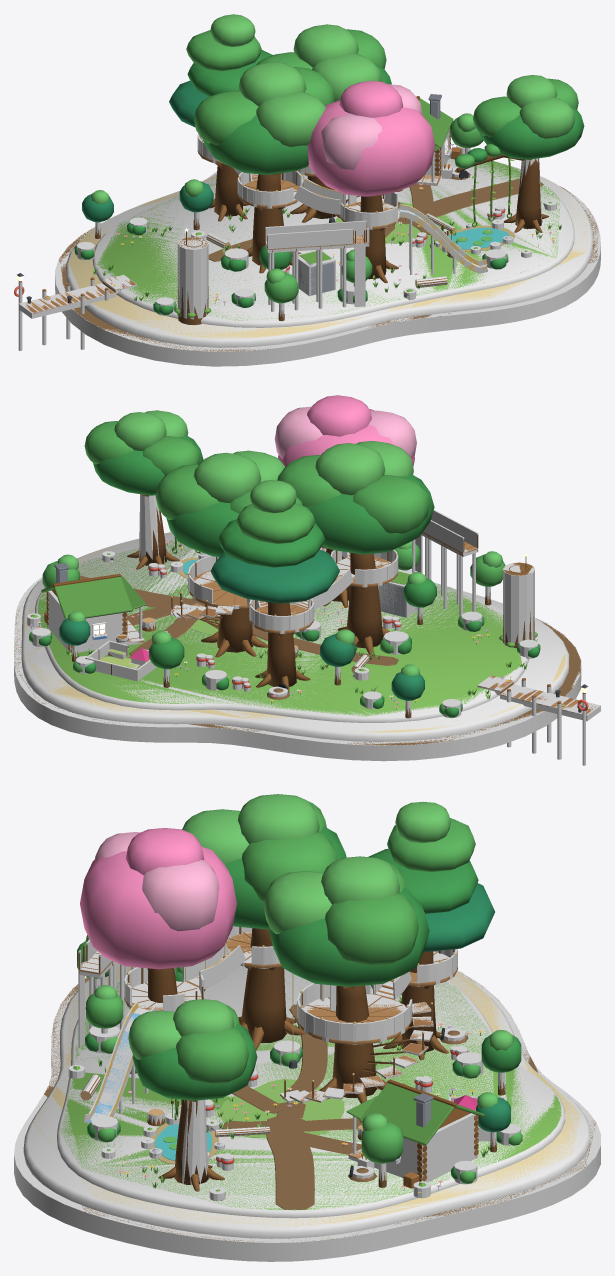
The model's file is bosque.glb.
3 renders of one model, top to bottom at view 1: azimuth 30°, elevation 25°; view 2: azimuth 150°, elevation 25°; view 3: azimuth 270°, elevation 25°, orthographic. The views are drawn at different scales.
Parts seen in each view (by area): view 1: col-terreno, terreno, copa-4, copa-3, copa-13, copa-2, construcoes, vegetacao, copa-1, col-cil-toco-segredo-1, tronco-5, tronco-3 (+14 smaller); view 2: col-terreno, terreno, copa-3, copa-2, construcoes, copa-1, copa-13, copa-4, vegetacao, col-cil-toco-segredo-1, tronco-3, tronco-2 (+18 smaller); view 3: col-terreno, terreno, copa-4, copa-1, construcoes, copa-3, copa-2, copa-13, vegetacao, tronco-3, col-cabana-1, tronco-1 (+11 smaller).
Part boxes in pixels (<box>): col-terreno: <box>55,156,600,366</box>; terreno: <box>59,157,598,351</box>; copa-4: <box>307,80,435,196</box>; copa-3: <box>194,62,334,175</box>; copa-13: <box>455,75,584,168</box>; copa-2: <box>169,14,272,127</box>; construcoes: <box>174,94,487,325</box>; vegetacao: <box>74,144,561,321</box>; copa-1: <box>256,24,391,101</box>; col-cil-toco-segredo-1: <box>177,237,208,319</box>; tronco-5: <box>515,158,542,229</box>; tronco-3: <box>252,174,283,265</box>; col-terreno: <box>14,532,581,761</box>; terreno: <box>14,532,580,745</box>; copa-3: <box>277,441,434,555</box>; copa-2: <box>210,480,339,603</box>; construcoes: <box>41,532,537,674</box>; copa-1: <box>155,450,302,556</box>; copa-13: <box>84,410,203,496</box>; copa-4: <box>274,395,416,466</box>; vegetacao: <box>29,541,540,718</box>; col-cil-toco-segredo-1: <box>503,562,534,647</box>; tronco-3: <box>346,553,382,648</box>; tronco-2: <box>267,602,296,686</box>; col-terreno: <box>14,962,600,1261</box>; terreno: <box>33,963,595,1242</box>; copa-4: <box>80,828,236,969</box>; copa-1: <box>263,856,429,988</box>; construcoes: <box>78,927,484,1188</box>; copa-3: <box>182,794,346,931</box>; copa-2: <box>368,802,494,951</box>; copa-13: <box>128,999,257,1101</box>; vegetacao: <box>73,985,522,1200</box>; tronco-3: <box>241,928,286,1042</box>; col-cabana-1: <box>374,1113,478,1182</box>; tronco-1: <box>332,985,377,1097</box>.
Bounding box in the file's own units: 40.51 × 16.94 × 29.58.
